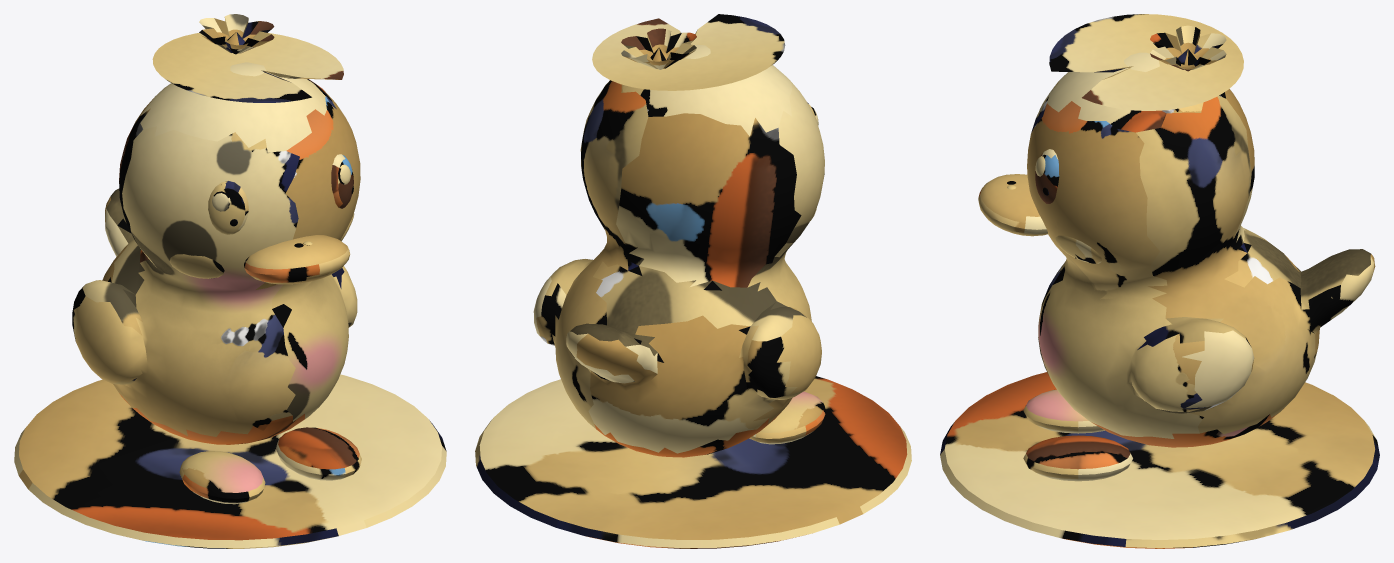
The model's file is creature_duck.fbx.
3 renders of one model, left to right at view 1: azimuth 30°, elevation 25°; view 2: azimuth 150°, elevation 25°; view 3: azimuth 270°, elevation 25°, orthographic.
Visible parts, largest first — view 1: creature_duck; view 2: creature_duck; view 3: creature_duck.
Part boxes in pixels (<box>): creature_duck: <box>14,14,446,548</box>; creature_duck: <box>475,14,911,548</box>; creature_duck: <box>940,14,1379,548</box>.
Size of the model in its own units: 280 by 300 by 280.
1 material, 1 textured.
